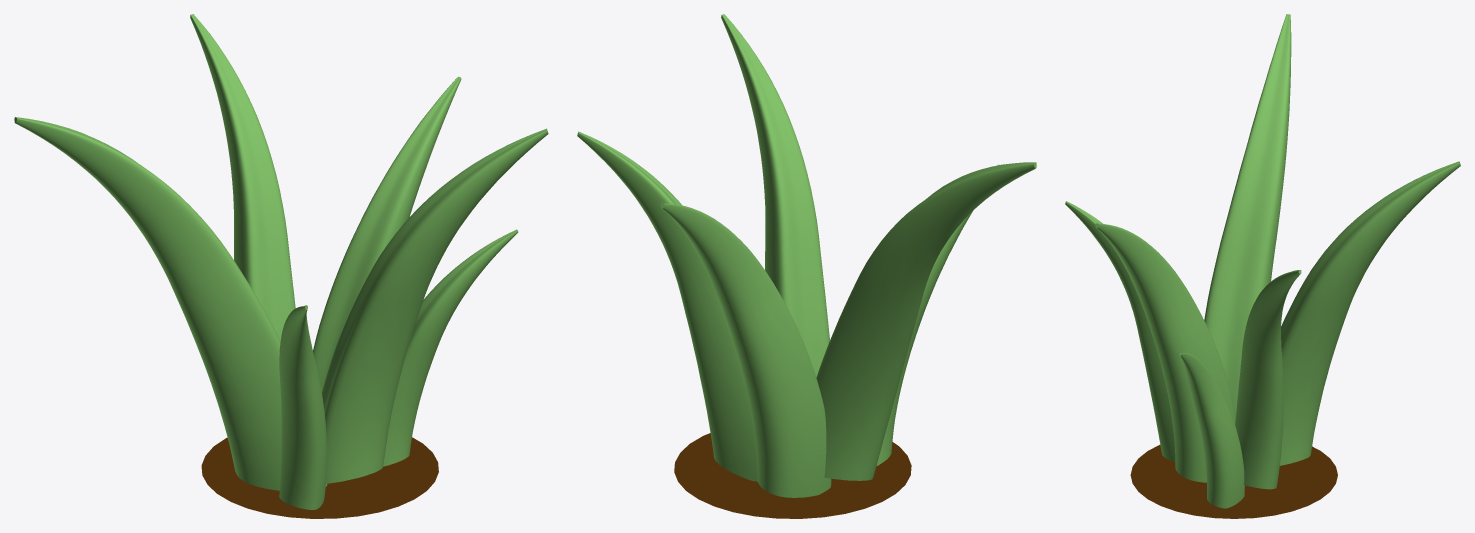
File: plant.gltf
The picture shows the model from 3 angles, left to right: view 1: azimuth 30°, elevation 25°; view 2: azimuth 150°, elevation 25°; view 3: azimuth 270°, elevation 25°; orthographic projection. The views are drawn at different scales.
Visible parts, largest first — view 1: NurbsPath009, NurbsPath008, NurbsPath010, NurbsPath011, Circle001, NurbsPath007, NurbsPath006; view 2: NurbsPath009, NurbsPath010, NurbsPath008, NurbsPath011, Circle001, NurbsPath007; view 3: NurbsPath009, NurbsPath010, NurbsPath008, NurbsPath011, Circle001, NurbsPath006, NurbsPath007.
Boxes of the visible parts, x1,y1,x2,y2 form: NurbsPath009: (14, 117, 327, 490); NurbsPath008: (322, 128, 548, 483); NurbsPath010: (190, 14, 295, 340); NurbsPath011: (313, 76, 461, 391); Circle001: (201, 437, 438, 518); NurbsPath007: (279, 305, 326, 509); NurbsPath006: (383, 229, 518, 466); NurbsPath009: (816, 162, 1036, 480); NurbsPath010: (660, 203, 831, 497); NurbsPath008: (721, 14, 829, 376); NurbsPath011: (577, 131, 757, 481); Circle001: (674, 433, 911, 518); NurbsPath007: (876, 164, 998, 465); NurbsPath009: (1204, 14, 1291, 416); NurbsPath010: (1280, 161, 1460, 465); NurbsPath008: (1095, 223, 1235, 482); NurbsPath011: (1235, 270, 1301, 489); Circle001: (1130, 445, 1337, 518); NurbsPath006: (1179, 353, 1244, 508); NurbsPath007: (1065, 201, 1175, 461).
Size of what is drawn, in the model's own units: 2.01 by 1.72 by 1.75.
